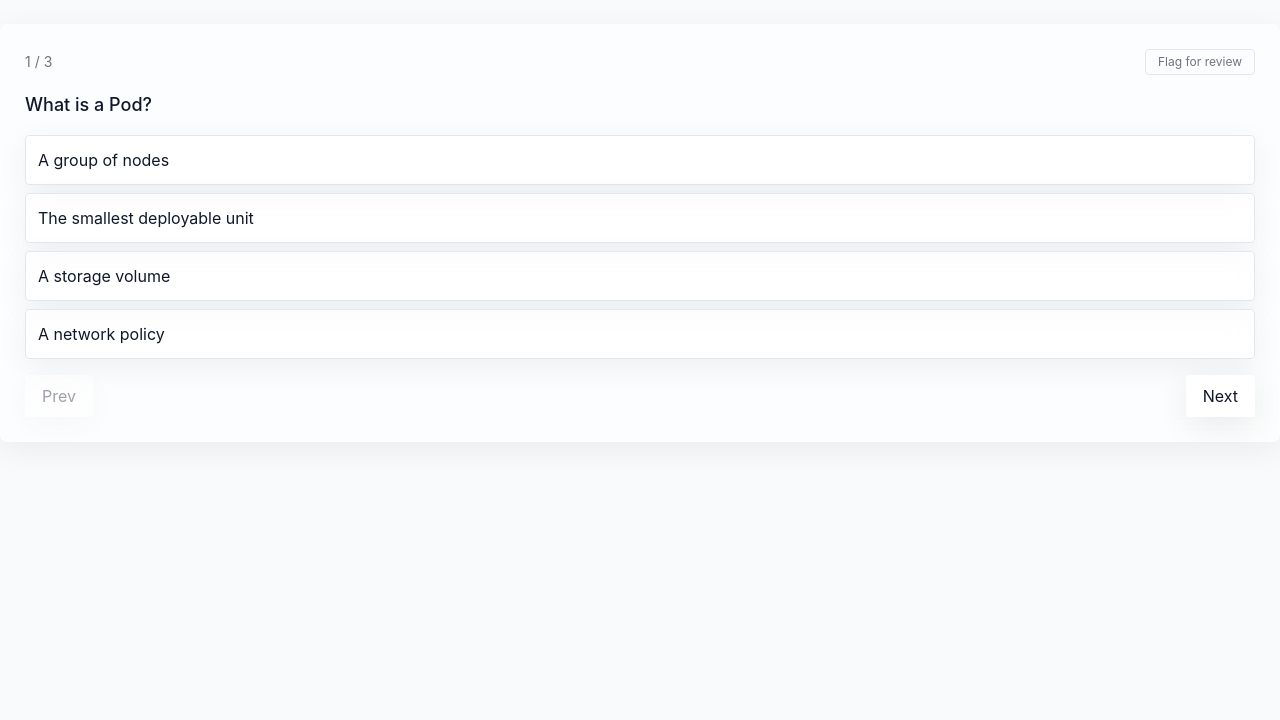
Scenario: QuizBlock Phase 3 scaffolds › quiz_passing_result_shows_passed_badge — passed=true shows Passed badge
Note: Answer all questions
Click the button "The smallest deployable unit". click: (146, 218)
box: [25,193,1255,243]
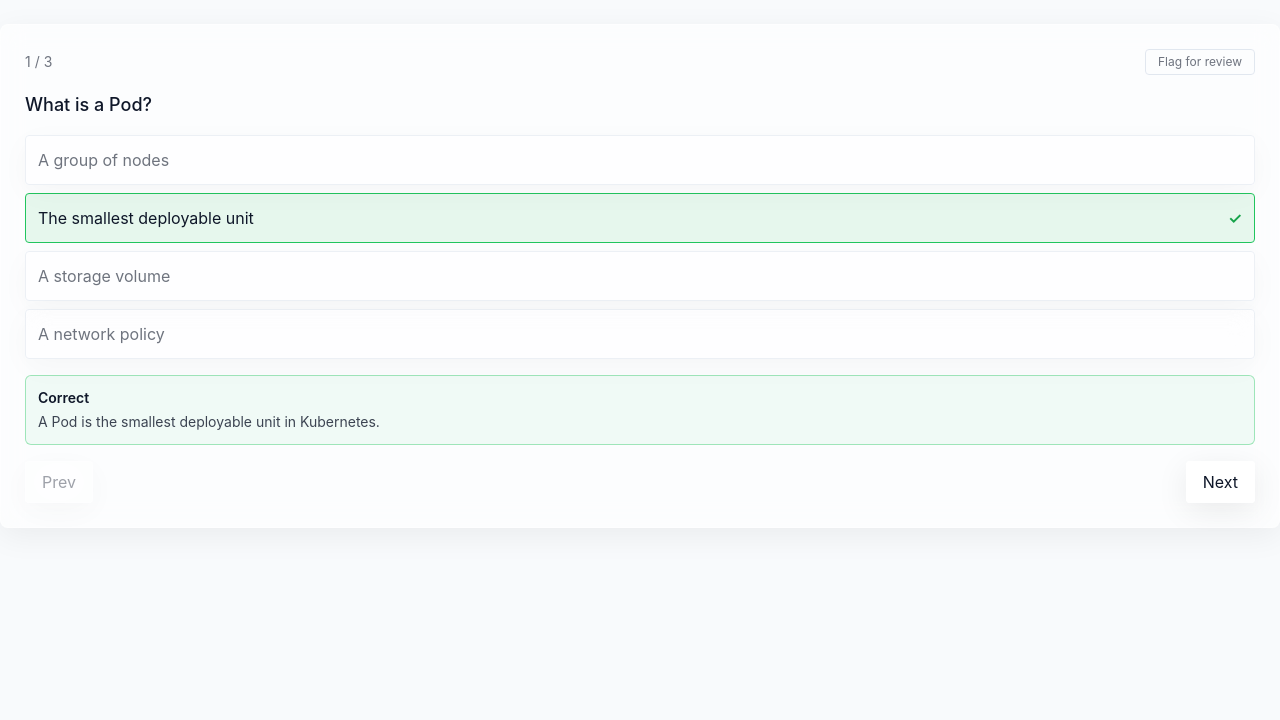
Click the button "Next". click: (1220, 482)
box: [1186,461,1255,503]
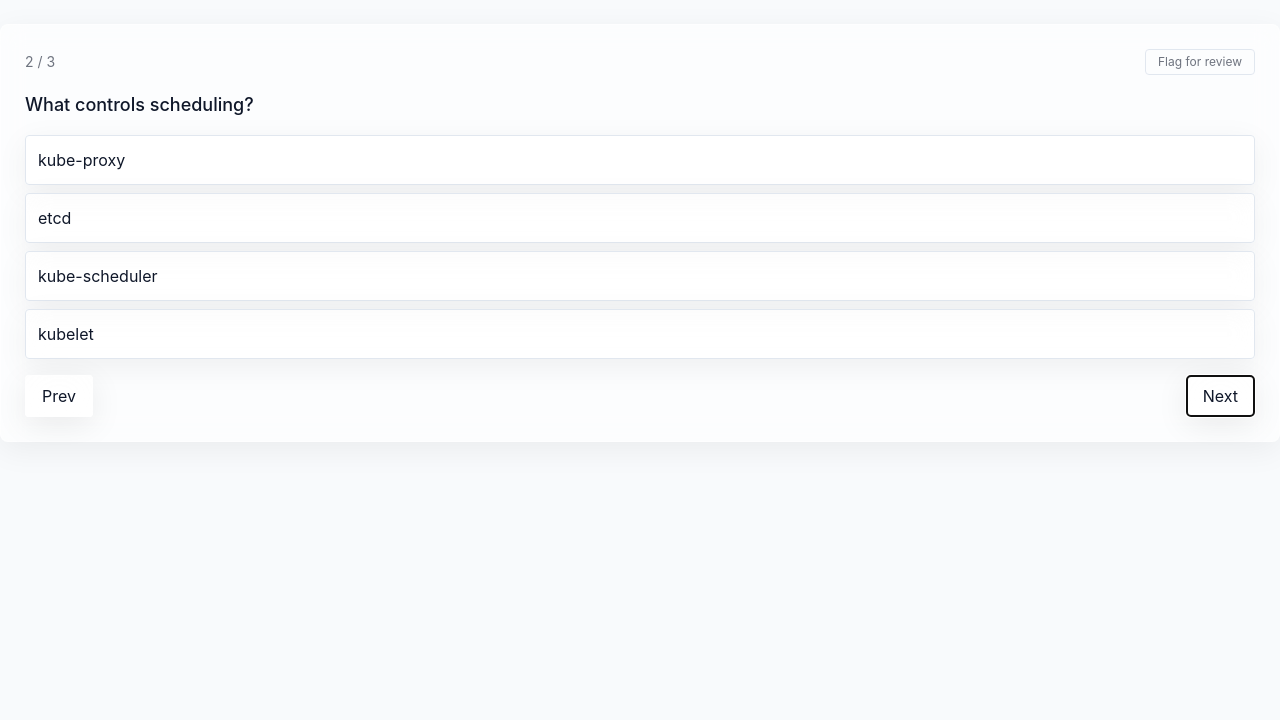
Click the button "kube-scheduler". click: (98, 276)
box: [25,251,1255,301]
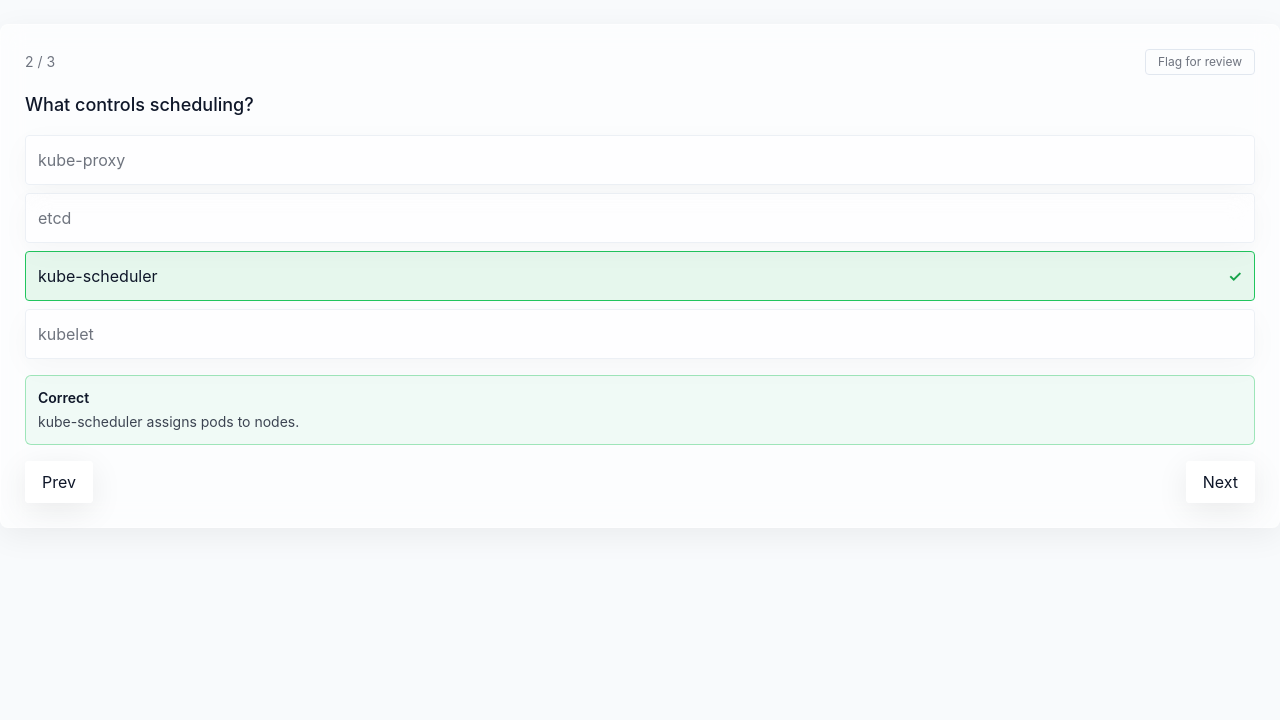
Click the button "Next". click: (1220, 482)
box: [1186,461,1255,503]
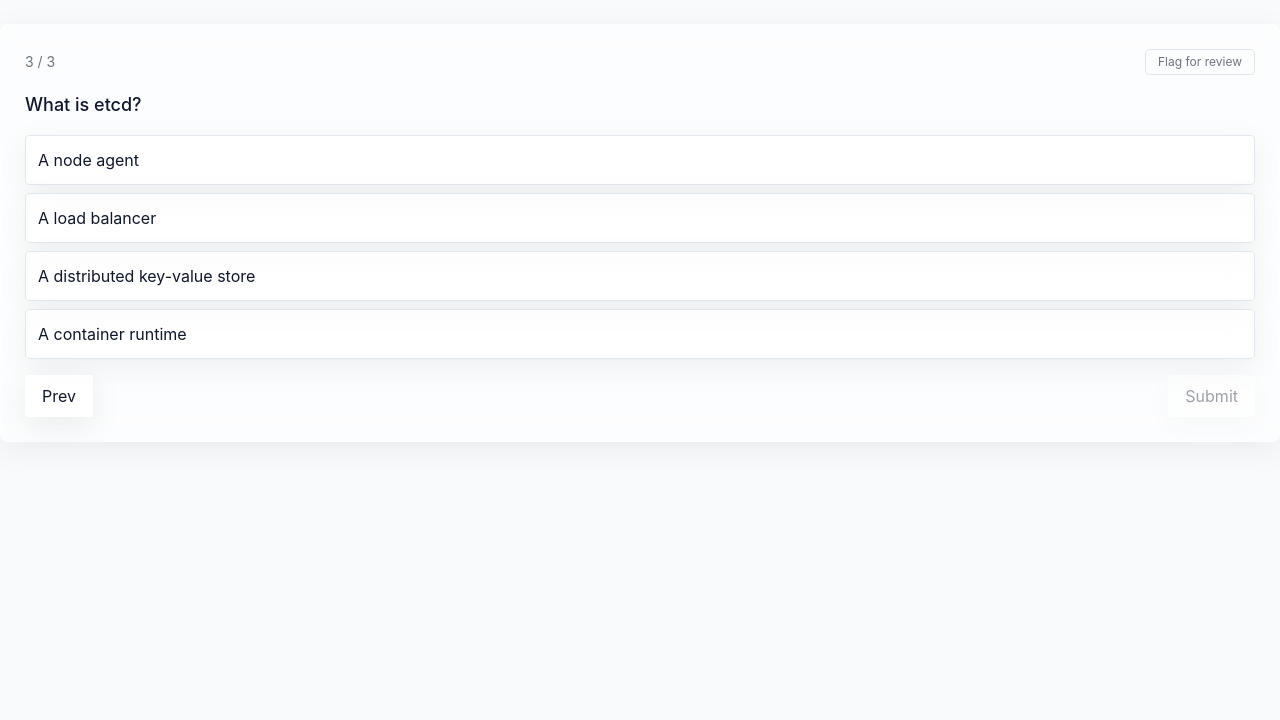
Click the button "A distributed key-value store". click: (147, 276)
box: [25,251,1255,301]
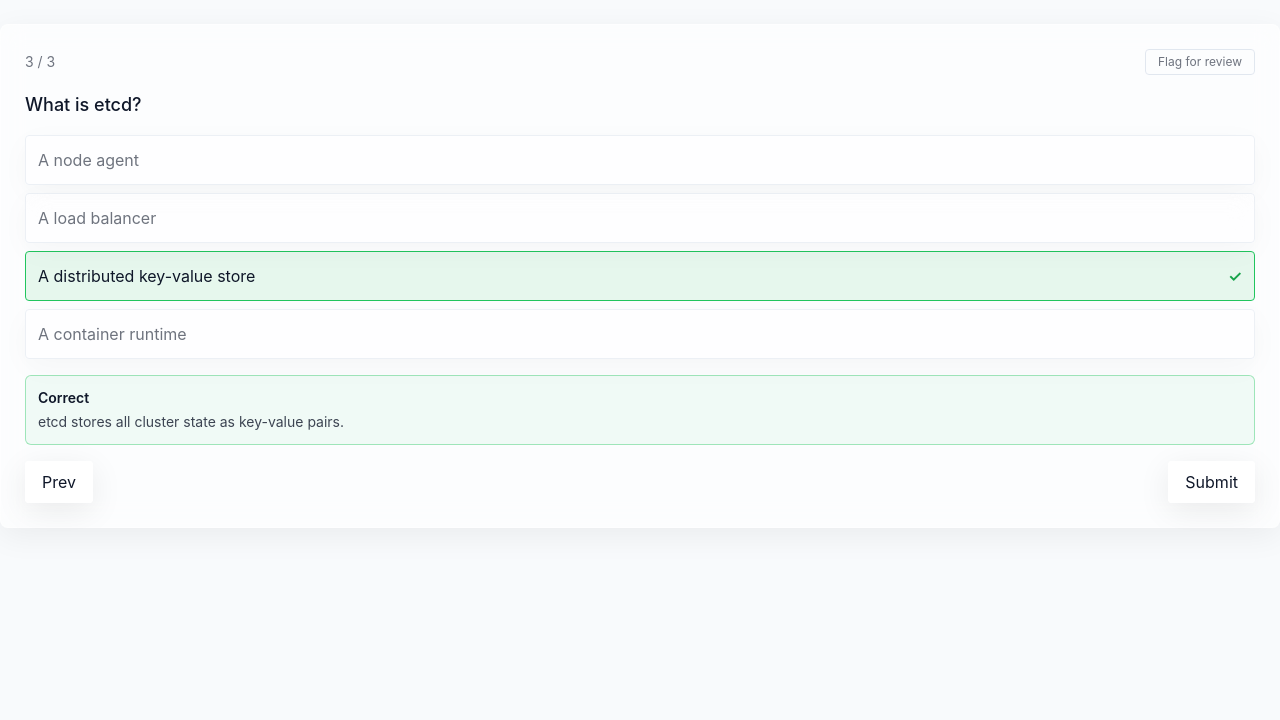
Click the button "Submit". click: (1212, 482)
box: [1168,461,1255,503]
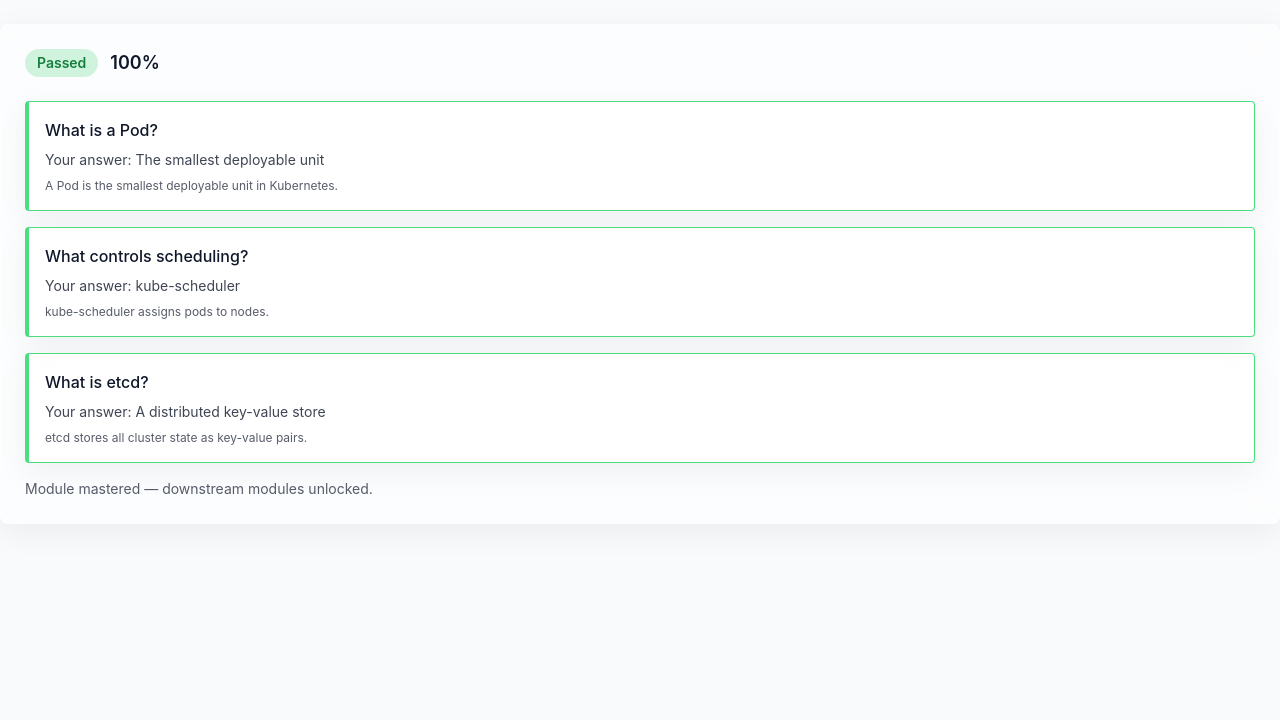
Now the text "Passed" is shown, box [25,49,98,77]
Now the text "100%" is shown, box [110,49,160,77]
